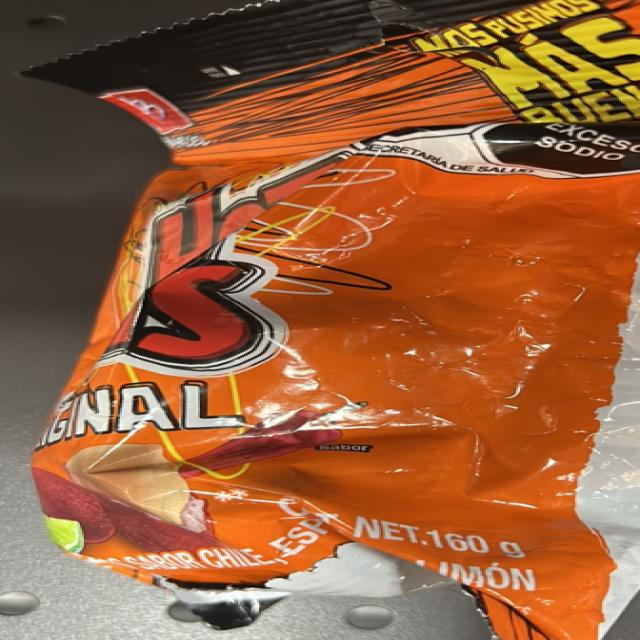hotNutsOriginal: (48, 11, 619, 594)
